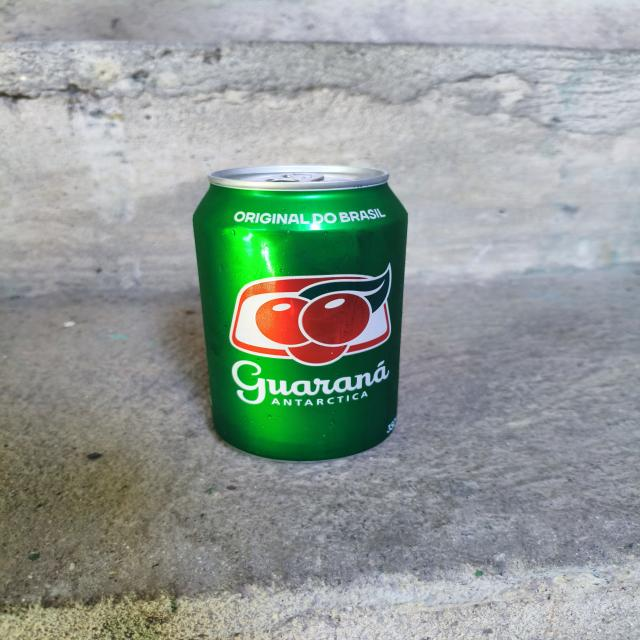Guarana: (187, 158, 439, 472)
